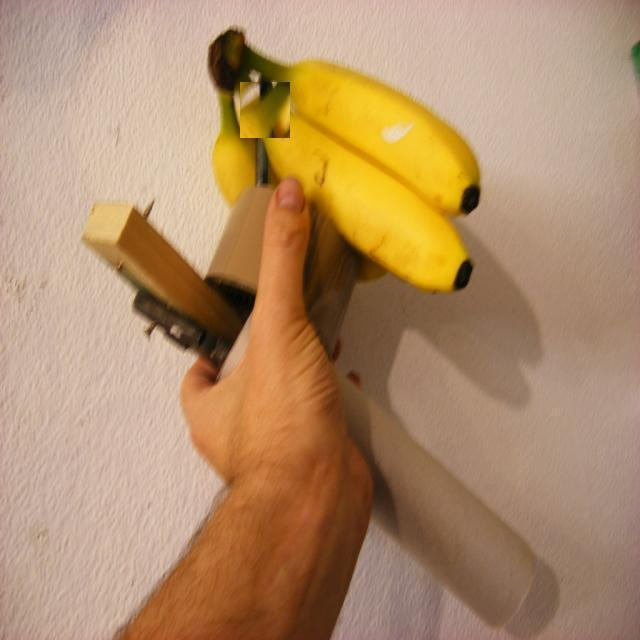Banana: (209, 27, 476, 289)
